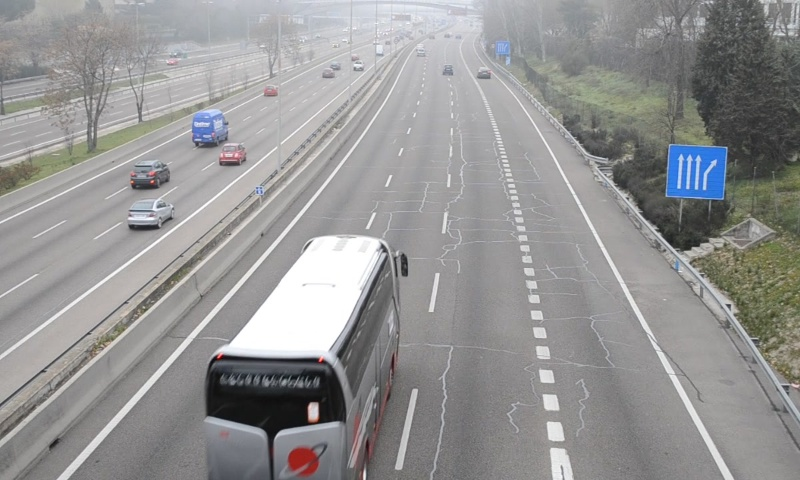bus: (202, 234, 402, 480)
car: (441, 63, 455, 77), (476, 67, 491, 80)
